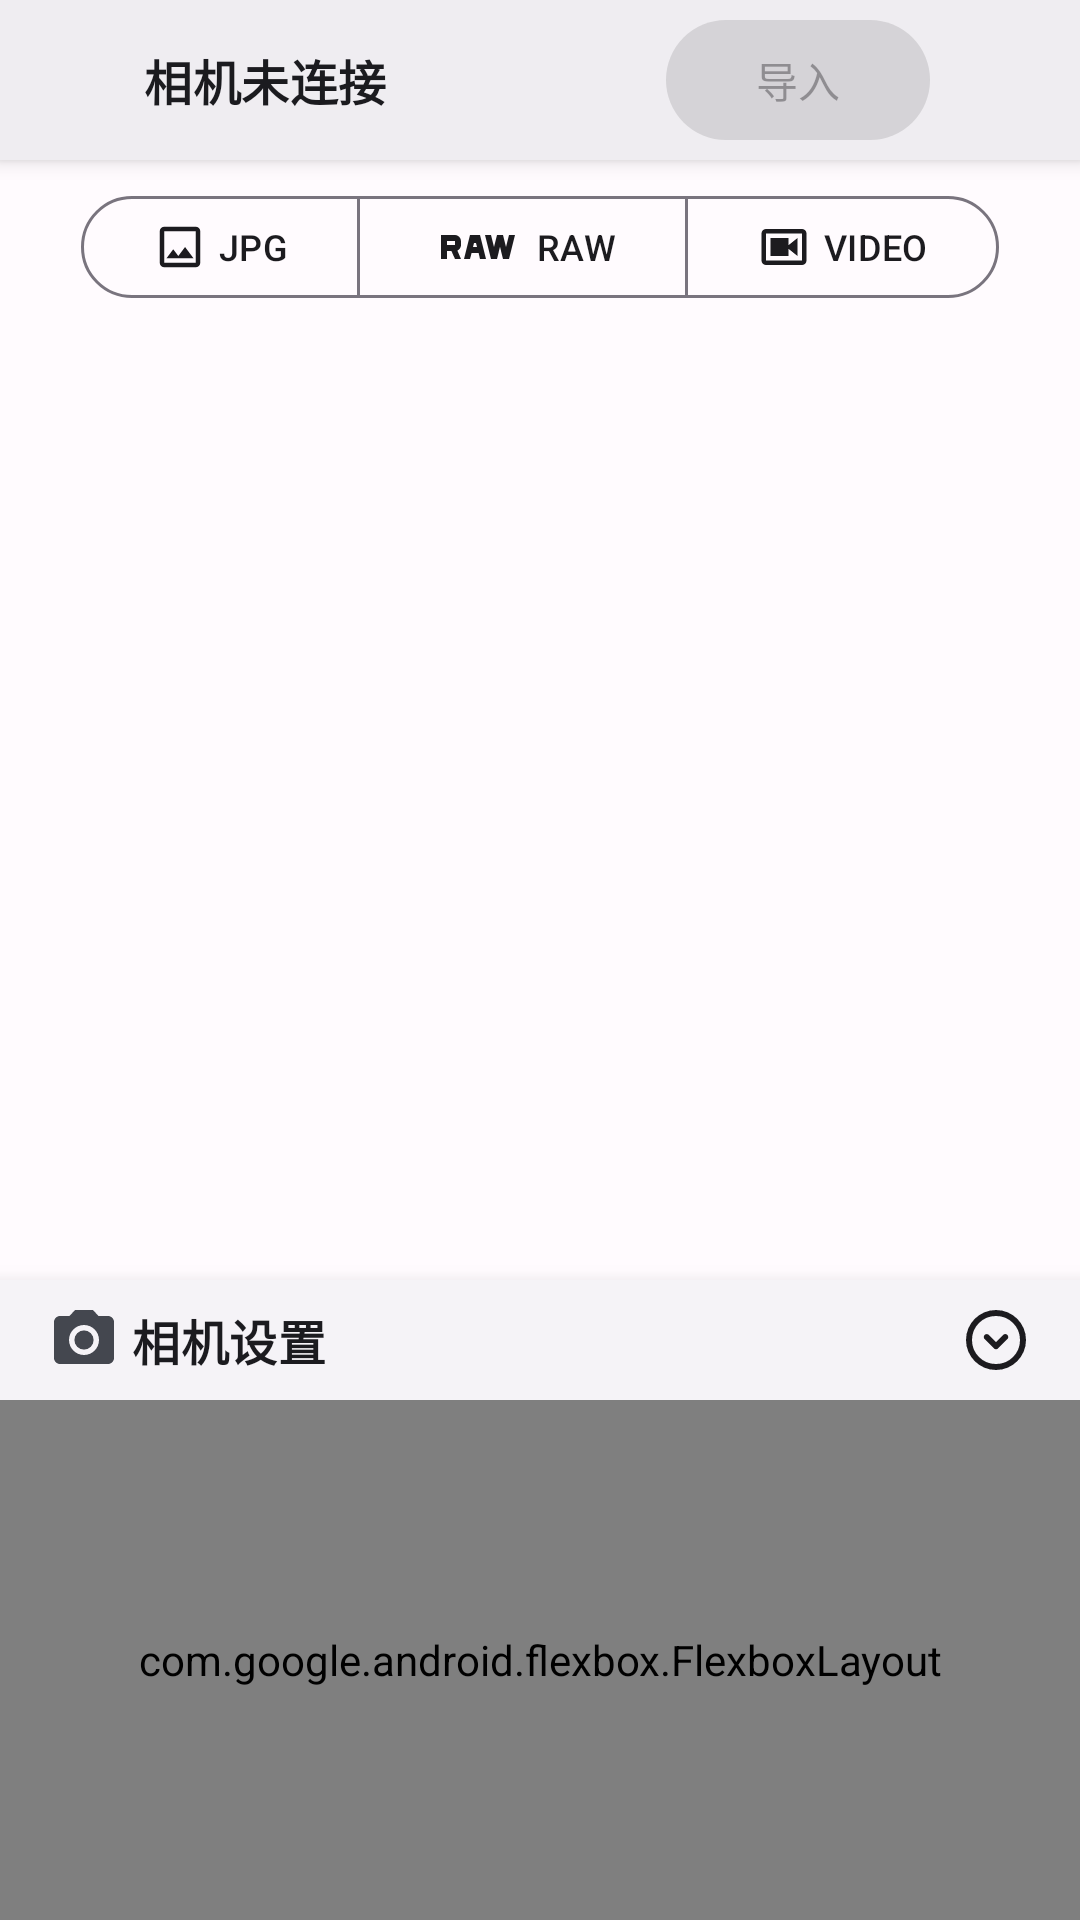

Named icons in this screenshot (1080px×1920px) and their bounding boxes, box=[x1, y1, x2, y2]:
camera: box=[54, 1310, 114, 1364]
展开/收缩: box=[966, 1310, 1026, 1370]
